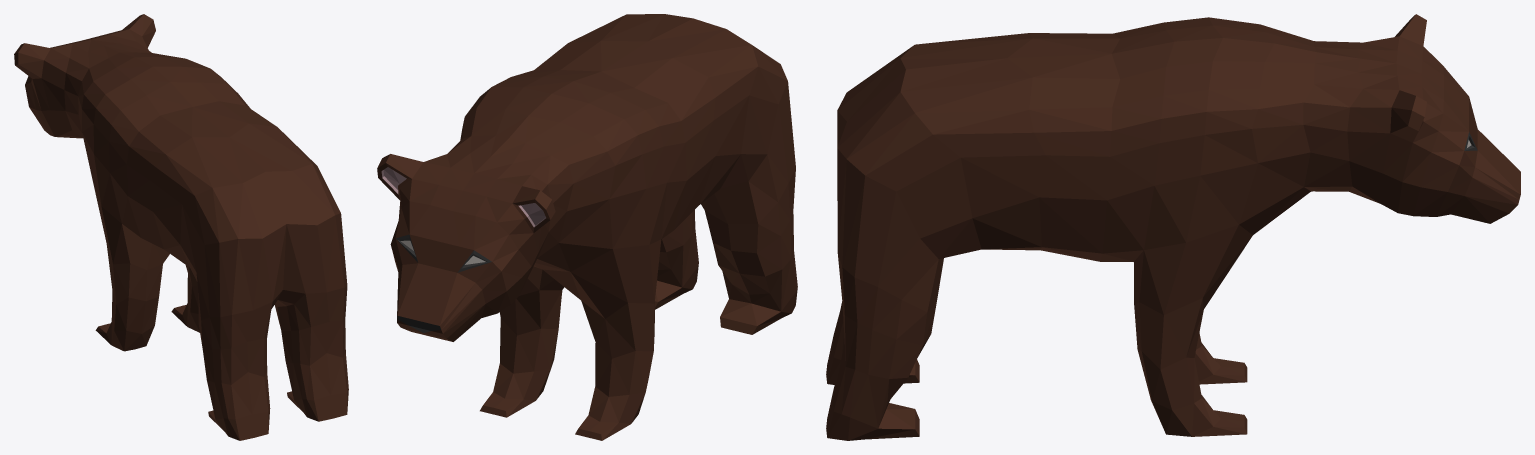
Rendered from Bear.fbx.
3 renders of one model, left to right at view 1: azimuth 30°, elevation 25°; view 2: azimuth 150°, elevation 25°; view 3: azimuth 270°, elevation 25°, orthographic. The views are drawn at different scales.
Visible parts, largest first — view 1: Bear; view 2: Bear; view 3: Bear.
Part boxes in pixels (box(x1,y1,x2,y2)): Bear: box(14, 14, 348, 440); Bear: box(377, 14, 797, 440); Bear: box(826, 14, 1520, 440).
Size of the model in its own units: 305 by 545 by 945.
